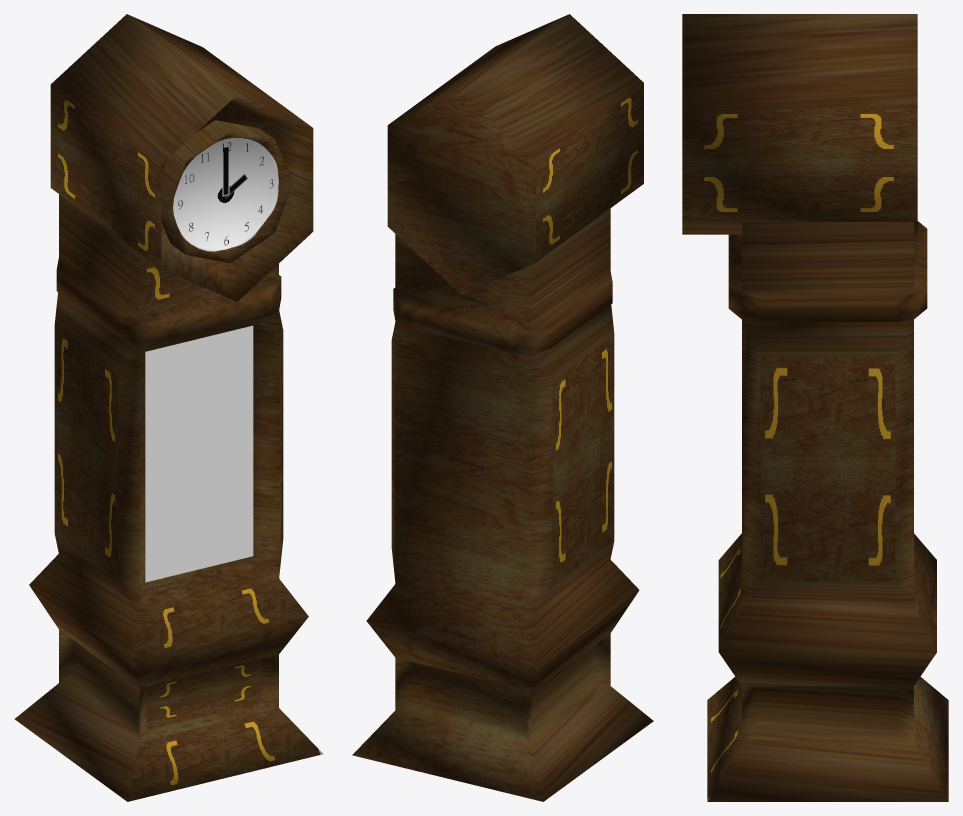
File: clock.fbx
3 views of the same model, side by side, from view 1: azimuth 30°, elevation 25°; view 2: azimuth 150°, elevation 25°; view 3: azimuth 270°, elevation 25° (orthographic). The views are drawn at different scales.
Visible parts, largest first — view 1: obj1; view 2: obj1; view 3: obj1.
Boxes of the visible parts, x1,y1,x2,y2 form: obj1: (14,14,323,801); obj1: (352,14,653,801); obj1: (682,14,948,801).
Bounding box in the file's own units: 281 × 947 × 310.
1 material, 1 textured.
